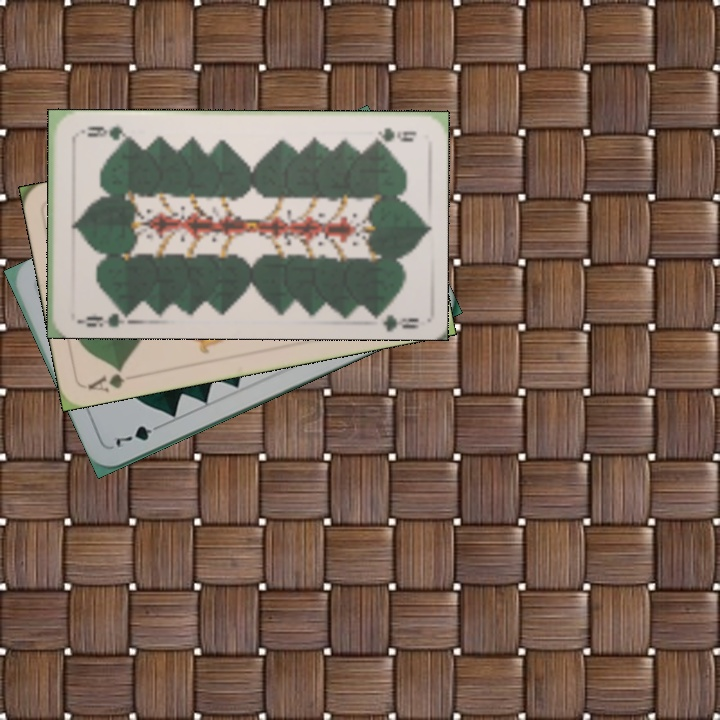G7: (111, 419, 165, 450)
G9: (73, 303, 131, 330), (368, 124, 419, 145)
GA: (83, 363, 127, 395)
